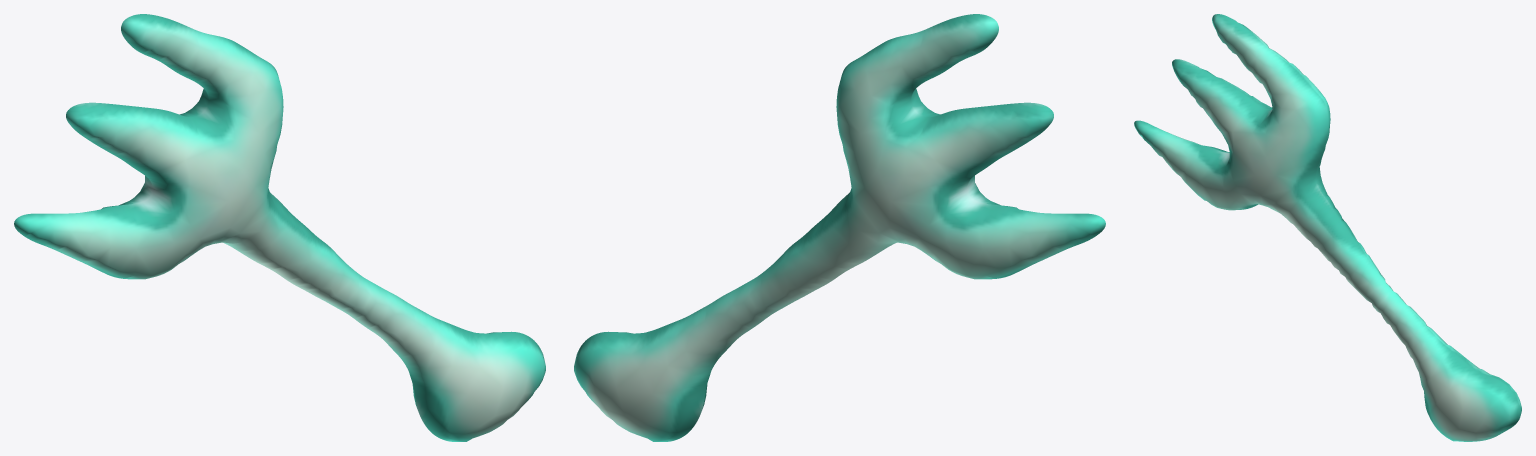
The model's file is fork.glb.
3 views of the same model, side by side, from view 1: azimuth 30°, elevation 25°; view 2: azimuth 150°, elevation 25°; view 3: azimuth 330°, elevation 25° (orthographic). The views are drawn at different scales.
Visible parts, largest first — view 1: Mesh_0.004; view 2: Mesh_0.004; view 3: Mesh_0.004.
Boxes of the visible parts, box(x1,y1,x2,y2) form: Mesh_0.004: box(14, 14, 545, 441); Mesh_0.004: box(574, 14, 1105, 441); Mesh_0.004: box(1134, 14, 1521, 441).
Size of the model in its own units: 144 by 131 by 23.1.
1 material, 1 textured.
